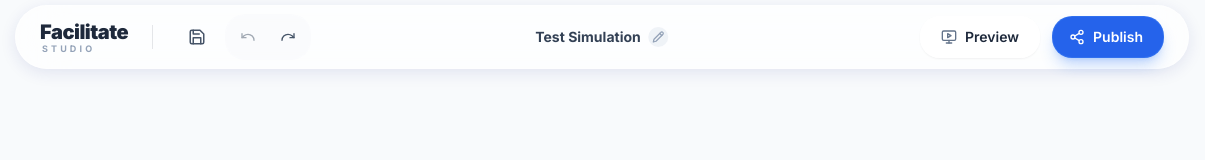
Test: TopBar › enters edit mode when title is clicked
Click the button "Test Simulation" at [602, 37], box [519,21,685,53]
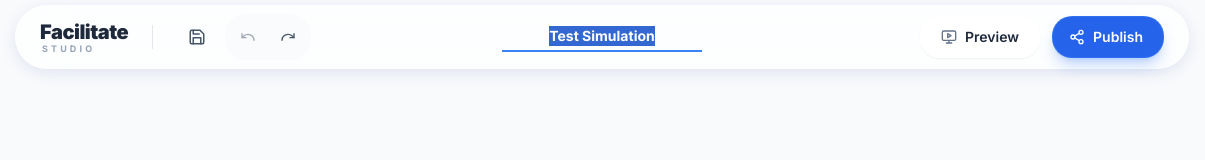
Result: the field showing "Test Simulation" is shown at [502,22,702,52]
